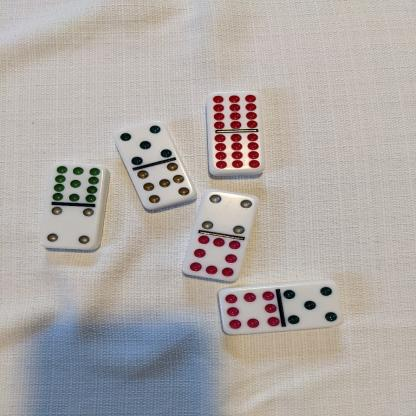pip-11: (49, 162, 102, 204)
pip-12: (205, 130, 265, 172), (205, 91, 262, 130)
pip-4: (199, 189, 256, 236), (40, 205, 98, 248)
pip-5: (280, 281, 342, 329), (112, 121, 171, 165)
pip-7: (134, 162, 193, 210)
pip-8: (217, 288, 279, 334), (181, 233, 240, 281)
